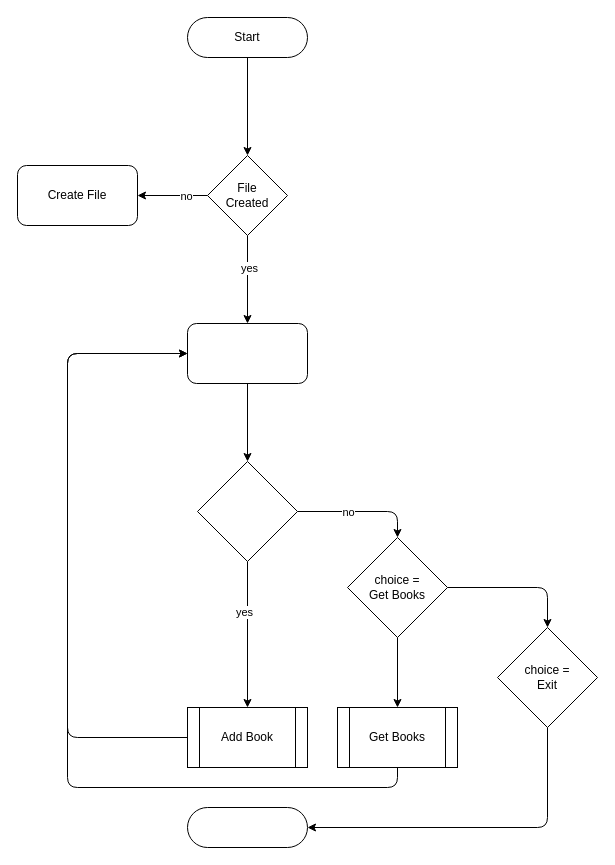
The diagram is 615 pixels wide and 865 high, and some of its shapes have lost their labels. The centre of each missing label's shape, as x and y in pixels:
Ask User for choice: pixel 247 353
choice = Add Books: pixel 247 511
Exit: pixel 247 827
